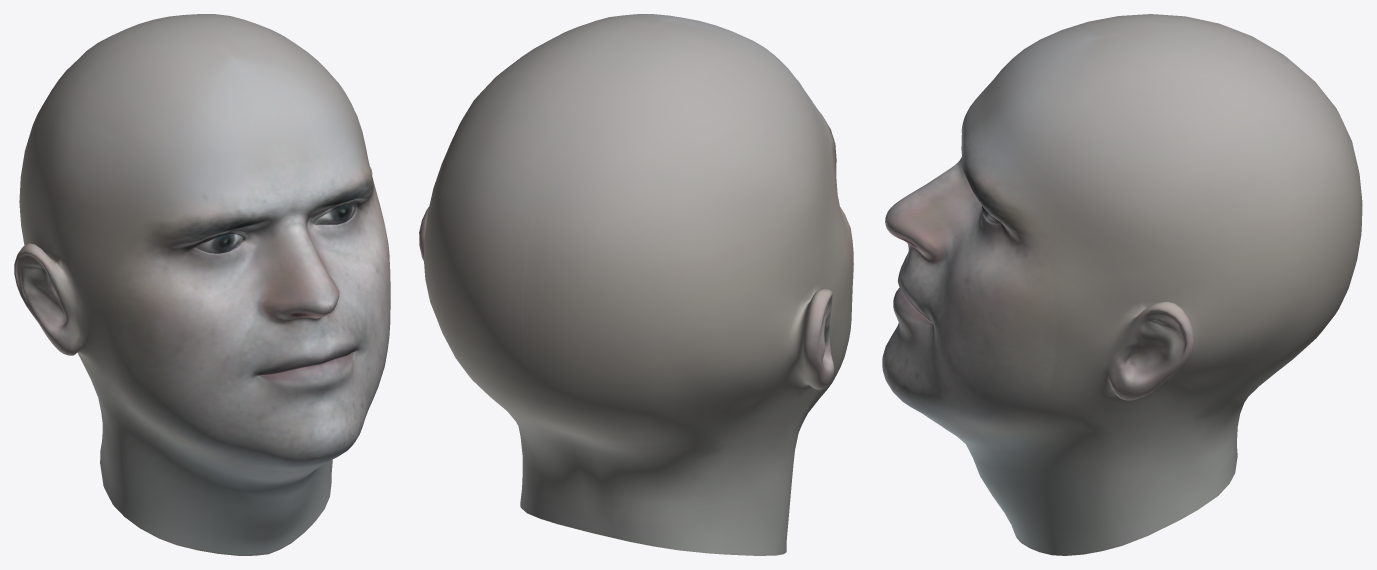
3 renders of one model, left to right at view 1: azimuth 30°, elevation 25°; view 2: azimuth 150°, elevation 25°; view 3: azimuth 270°, elevation 25°, orthographic. The views are drawn at different scales.
Visible parts, largest first — view 1: skin_hi, eyeR_hi, eyeL_hi; view 2: skin_hi; view 3: skin_hi.
Part boxes in pixels (x1=…): skin_hi: x1=14, y1=14, x2=390, y2=555; eyeR_hi: x1=195, y1=234, x2=242, y2=253; eyeL_hi: x1=313, y1=204, x2=356, y2=224; skin_hi: x1=419, y1=14, x2=853, y2=555; skin_hi: x1=882, y1=14, x2=1362, y2=555.
Bounding box in the file's own units: 213 × 277 × 240.
3 materials, 3 textured.
